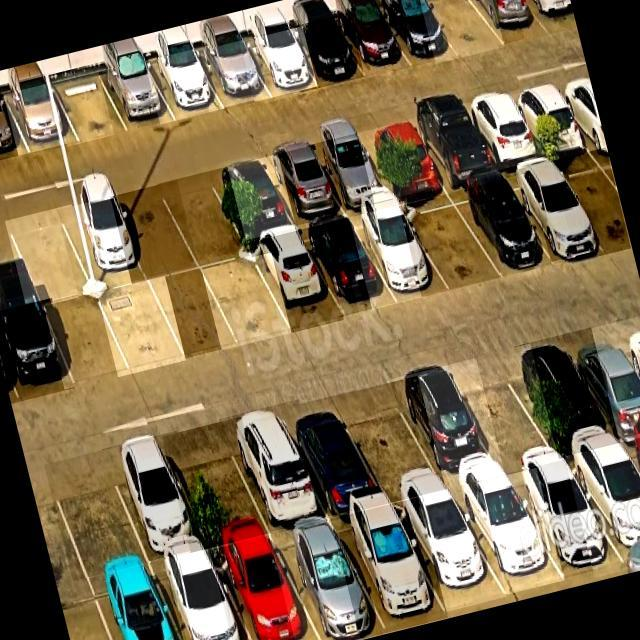empty: (448, 351, 559, 472), (162, 426, 270, 547), (334, 383, 445, 500), (45, 450, 147, 577), (400, 194, 501, 289), (158, 171, 249, 267), (5, 209, 93, 303), (111, 186, 198, 280), (552, 149, 631, 252), (97, 281, 186, 372), (150, 269, 239, 358), (44, 294, 130, 386), (202, 257, 291, 344), (52, 71, 129, 141), (422, 0, 504, 58)
occupied: (331, 504, 448, 633), (388, 366, 504, 488), (269, 521, 385, 640), (507, 460, 624, 577), (450, 475, 564, 594), (220, 406, 328, 531), (392, 492, 506, 610), (103, 437, 207, 560), (278, 397, 385, 516), (515, 336, 619, 455), (209, 535, 320, 640), (501, 162, 605, 261), (449, 180, 550, 276), (249, 230, 343, 332), (300, 217, 397, 315), (565, 443, 640, 568), (350, 206, 449, 299), (151, 549, 250, 640), (564, 326, 640, 441), (56, 197, 147, 292), (0, 302, 74, 401), (208, 158, 296, 240), (408, 107, 498, 186), (90, 563, 181, 640), (260, 146, 345, 224), (307, 135, 392, 210), (358, 121, 444, 195), (462, 93, 545, 168), (508, 82, 590, 155), (332, 2, 411, 77), (376, 0, 458, 66), (286, 17, 364, 86), (145, 52, 224, 120), (99, 61, 175, 131), (4, 82, 78, 152), (240, 32, 317, 96), (196, 42, 269, 107), (473, 0, 549, 43), (0, 94, 29, 160), (526, 0, 576, 32)
